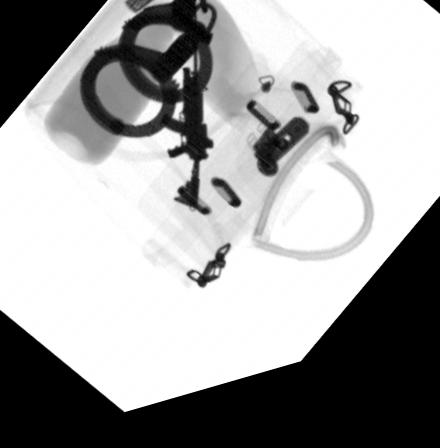Gun: (158, 0, 215, 221)
HandCuffs: (76, 0, 216, 144)
